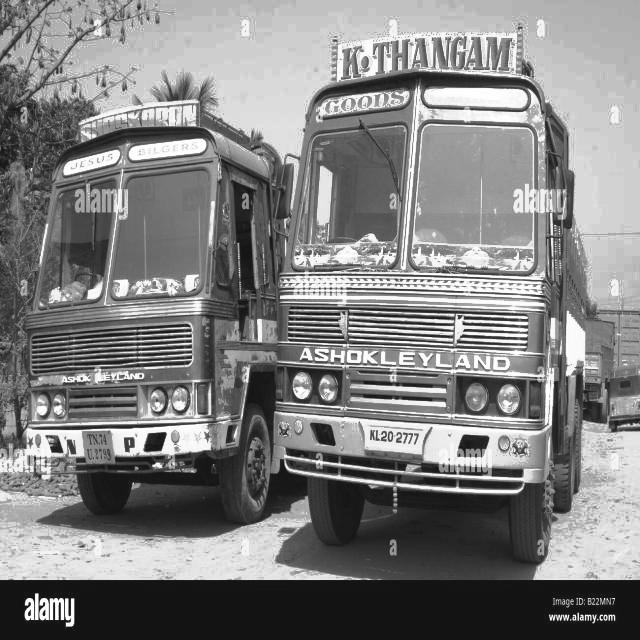HCV: (279, 14, 594, 574), (18, 75, 271, 543)
